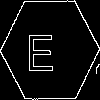E: (25, 25, 55, 71)
